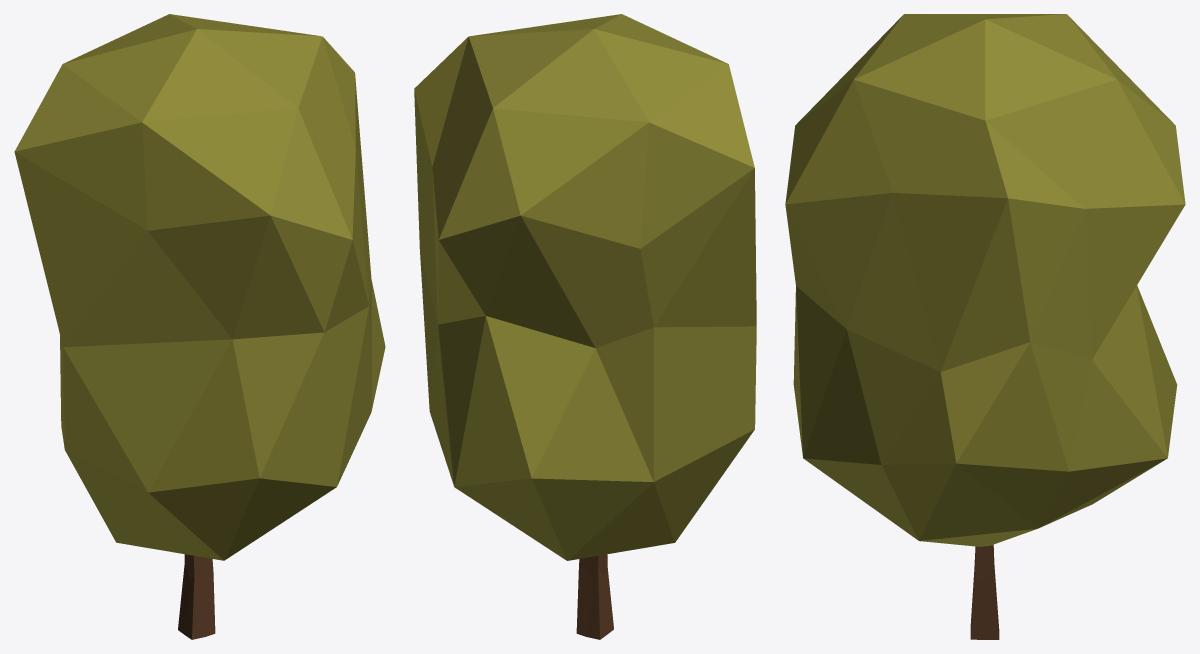
Rendered from Tree_7_Yellow.fbx.
The picture shows the model from 3 angles, left to right: view 1: azimuth 30°, elevation 25°; view 2: azimuth 150°, elevation 25°; view 3: azimuth 270°, elevation 25°; orthographic projection. The views are drawn at different scales.
Parts seen in each view (by area): view 1: Tree_7_Yellow_Part_1, Tree_7_Yellow_Part_2; view 2: Tree_7_Yellow_Part_1, Tree_7_Yellow_Part_2; view 3: Tree_7_Yellow_Part_1, Tree_7_Yellow_Part_2.
Boxes of the visible parts, x1=… form: Tree_7_Yellow_Part_1: x1=14, y1=14, x2=385, y2=560; Tree_7_Yellow_Part_2: x1=178, y1=554, x2=215, y2=639; Tree_7_Yellow_Part_1: x1=414, y1=14, x2=756, y2=560; Tree_7_Yellow_Part_2: x1=576, y1=554, x2=613, y2=639; Tree_7_Yellow_Part_1: x1=785, y1=14, x2=1185, y2=546; Tree_7_Yellow_Part_2: x1=970, y1=544, x2=999, y2=639.
Bounding box in the file's own units: 478 × 796 × 468.
